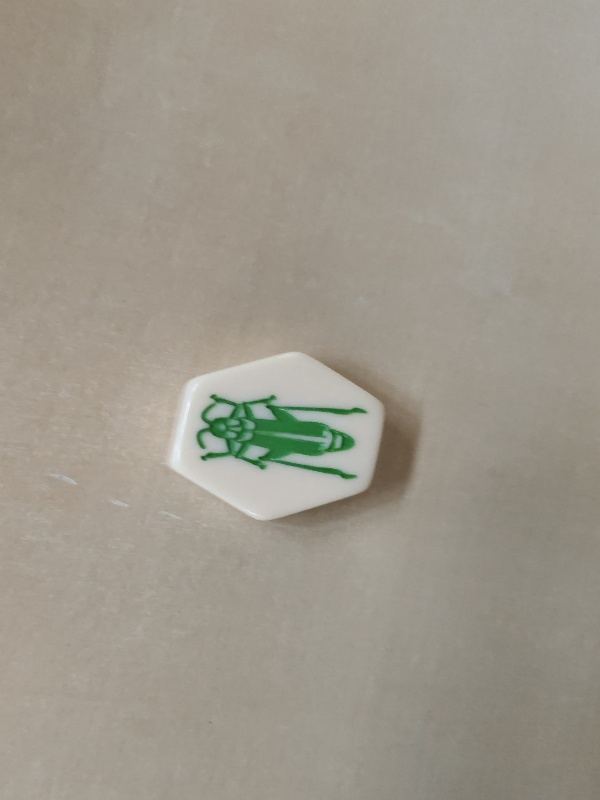white_grasshopper: (163, 352, 387, 518)
